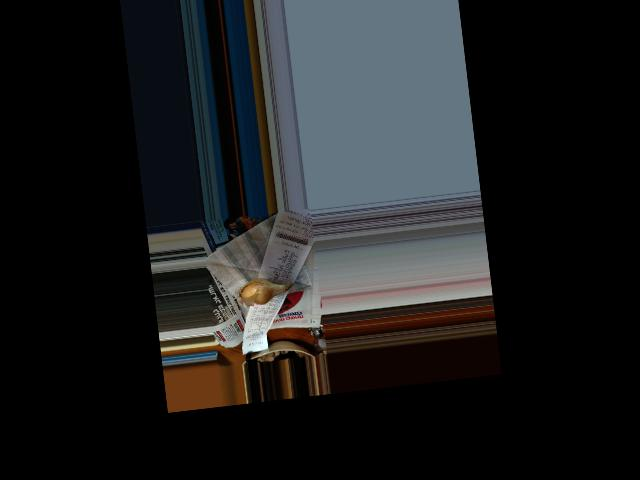onion: (239, 274, 284, 308)
